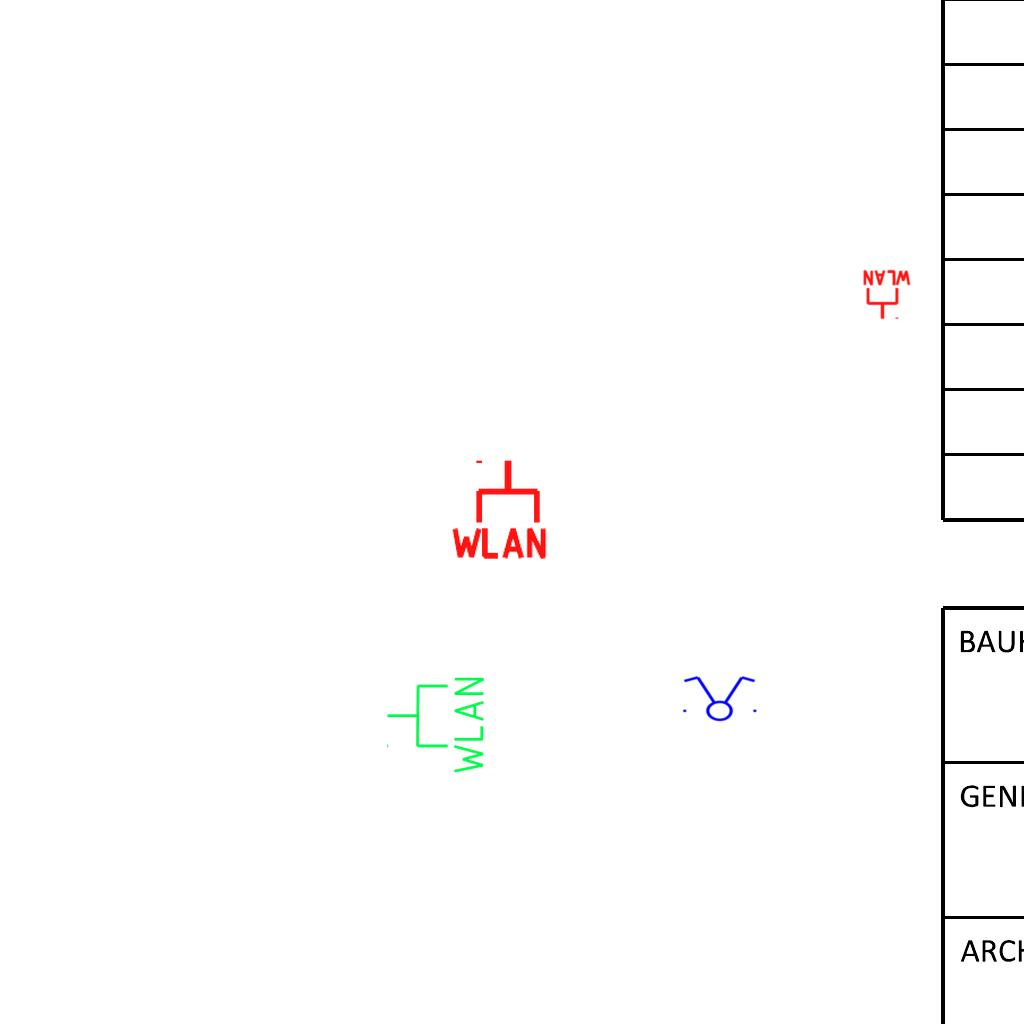Serienschalter: (677, 674, 761, 722)
WLAN: (384, 673, 488, 778), (447, 456, 551, 561), (861, 269, 913, 321)
